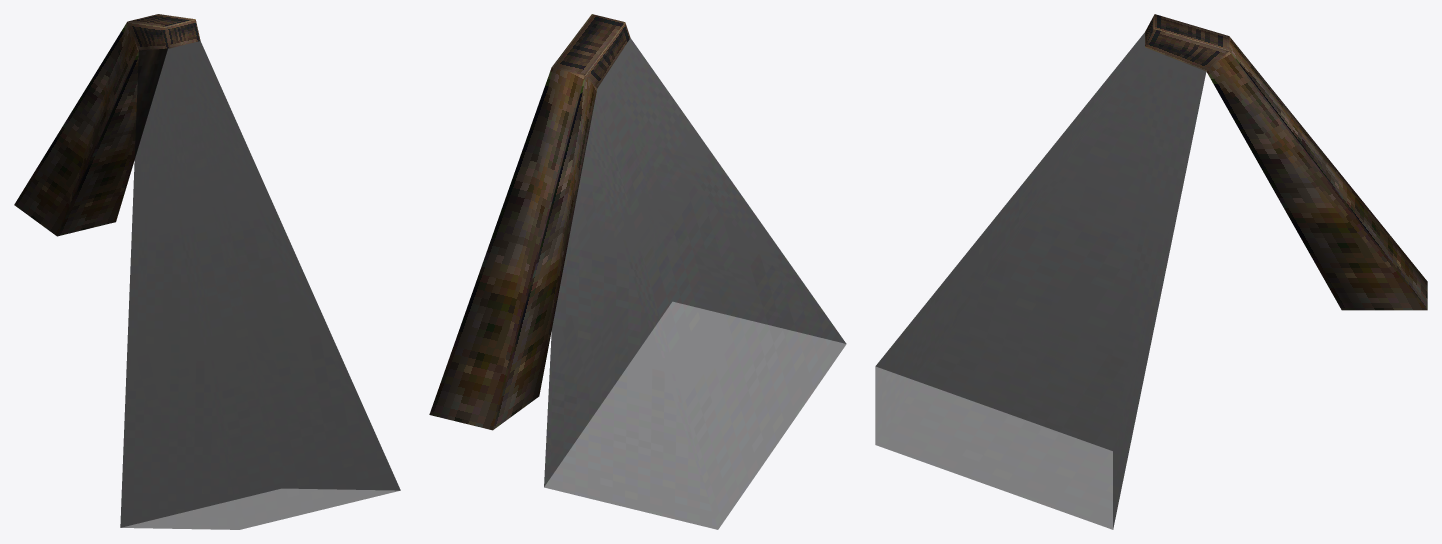
The picture shows the model from 3 angles, left to right: view 1: azimuth 30°, elevation 25°; view 2: azimuth 150°, elevation 25°; view 3: azimuth 270°, elevation 25°; orthographic projection. The views are drawn at different scales.
Parts seen in each view (by area): view 1: Slim_obj_045; view 2: Slim_obj_045; view 3: Slim_obj_045.
Boxes of the visible parts, bbox=[...] form: Slim_obj_045: bbox=[14, 14, 400, 529]; Slim_obj_045: bbox=[429, 14, 846, 529]; Slim_obj_045: bbox=[875, 14, 1427, 529].
Size of the model in its own units: 0.7441 by 2.07 by 2.21.
Materials: 2 (2 with a texture image).
